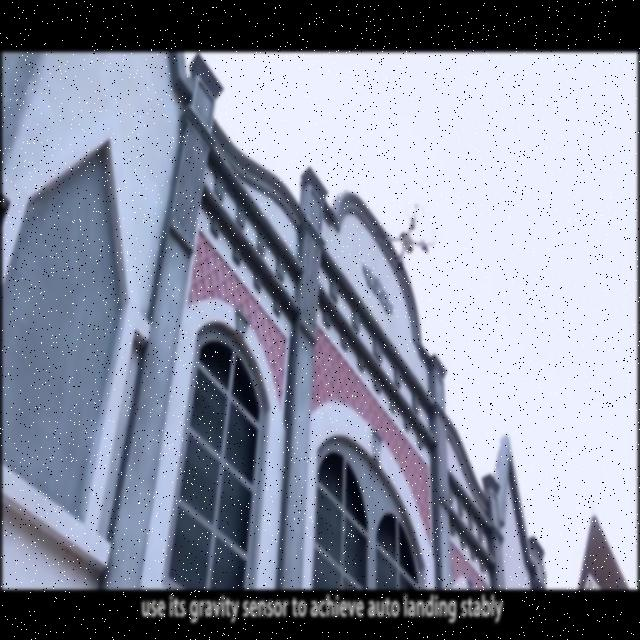UAV: (384, 204, 436, 270)
